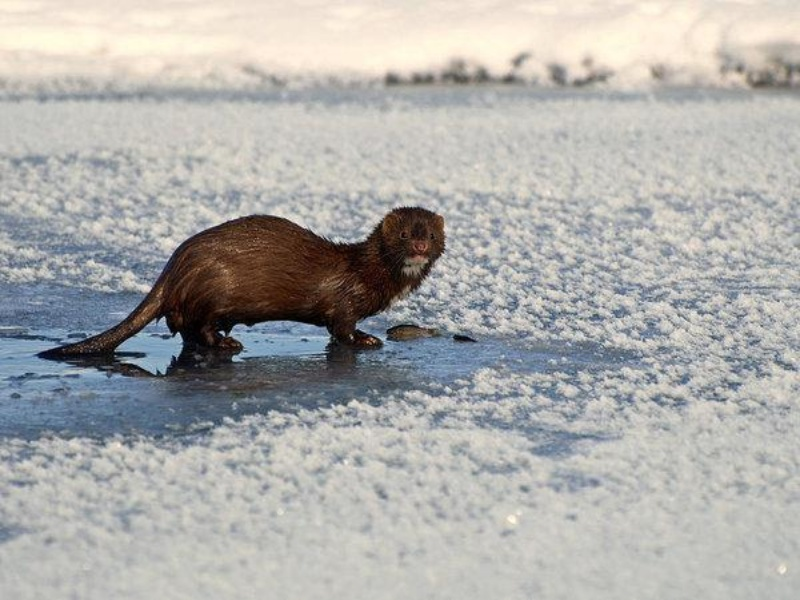minkish: (33, 204, 447, 366)
